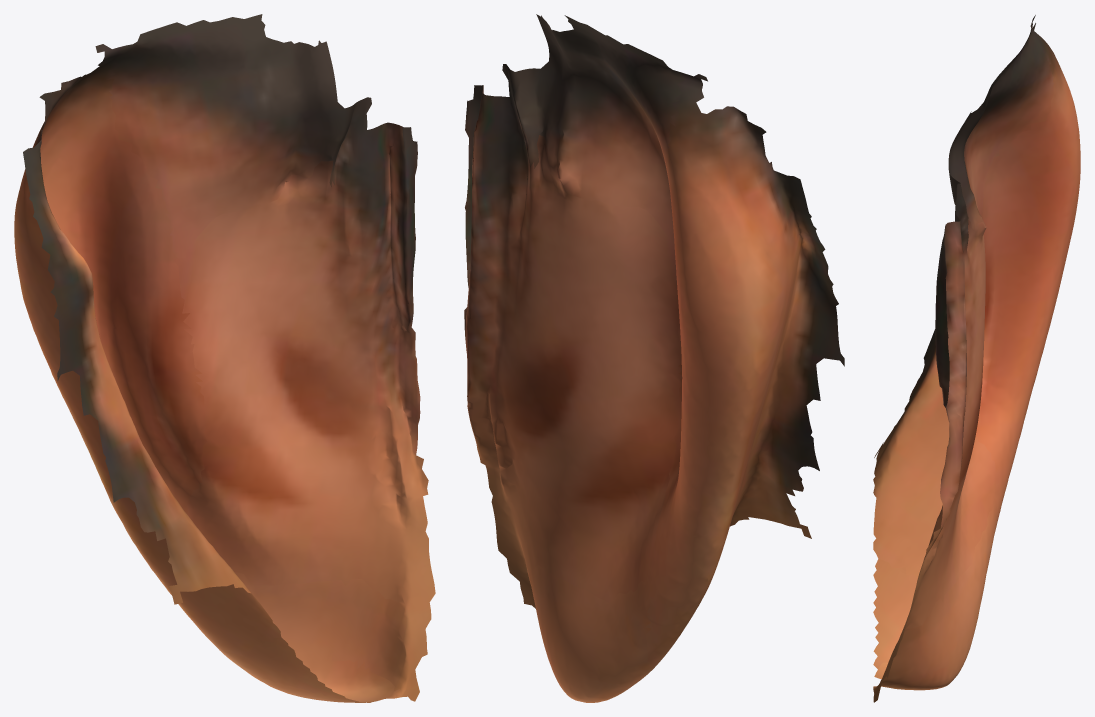
Rendered from COLLIDER_EAR_LEFT.glb.
3 views of the same model, side by side, from view 1: azimuth 30°, elevation 25°; view 2: azimuth 150°, elevation 25°; view 3: azimuth 270°, elevation 25° (orthographic). The views are drawn at different scales.
Visible parts, largest first — view 1: tripo_node_9bab15ef-14f4-426d-8081-19d1b5f2643f; view 2: tripo_node_9bab15ef-14f4-426d-8081-19d1b5f2643f; view 3: tripo_node_9bab15ef-14f4-426d-8081-19d1b5f2643f.
Boxes of the visible parts, left/top/right/bottom form: tripo_node_9bab15ef-14f4-426d-8081-19d1b5f2643f: left=14, top=14, right=435, bottom=702; tripo_node_9bab15ef-14f4-426d-8081-19d1b5f2643f: left=464, top=14, right=844, bottom=702; tripo_node_9bab15ef-14f4-426d-8081-19d1b5f2643f: left=873, top=15, right=1080, bottom=702.
Bounding box in the file's own units: 0.0986 × 0.1757 × 0.0549.
Materials: 1 (1 with a texture image).
